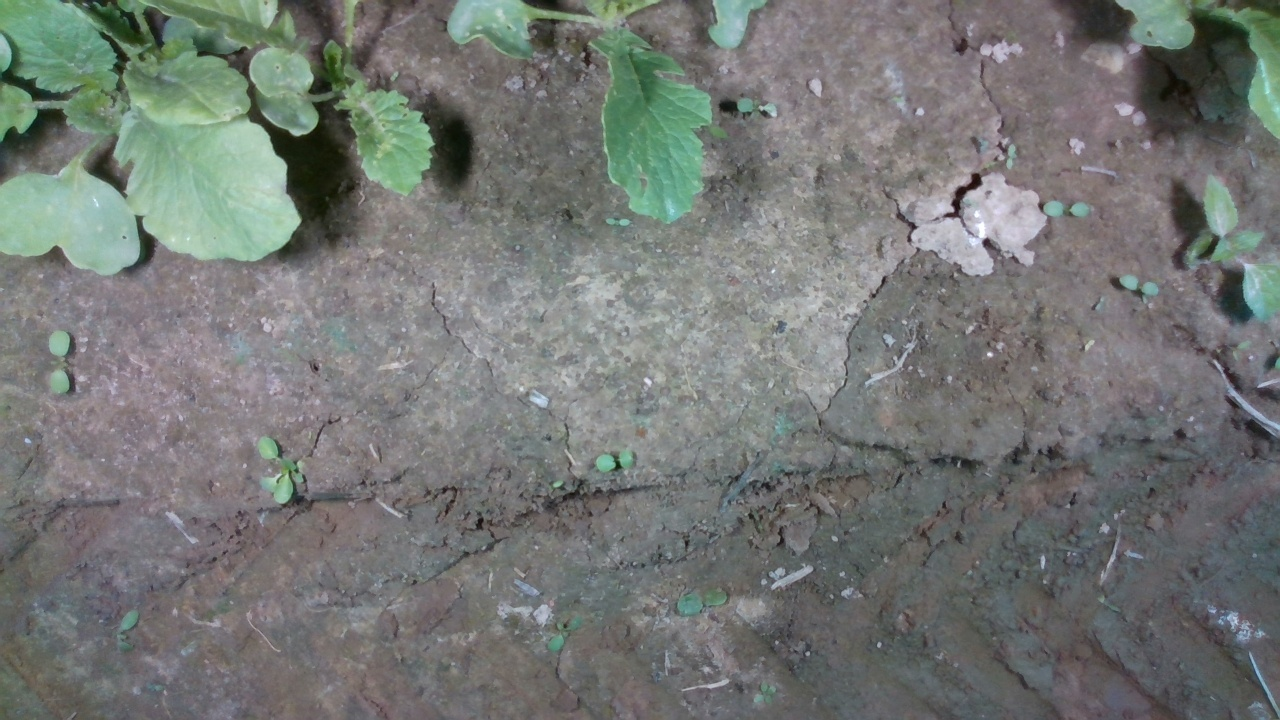weed: (45, 329, 71, 398), (114, 608, 140, 654), (594, 446, 636, 474), (1039, 199, 1094, 218), (1004, 141, 1017, 173)
